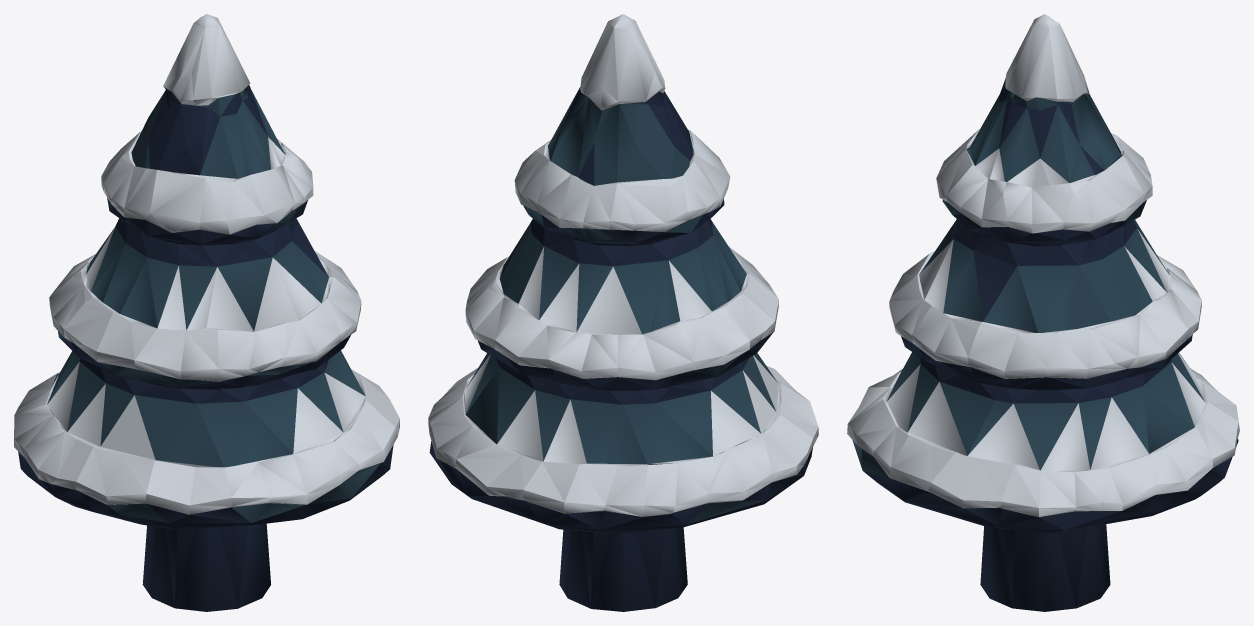
File: pine_snowy.glb
The picture shows the model from 3 angles, left to right: view 1: azimuth 30°, elevation 25°; view 2: azimuth 150°, elevation 25°; view 3: azimuth 270°, elevation 25°; orthographic projection.
Parts seen in each view (by area): view 1: material; view 2: material; view 3: material.
Boxes of the visible parts, left/top/right/bottom form: material: left=14, top=14, right=399, bottom=611; material: left=428, top=14, right=818, bottom=611; material: left=847, top=14, right=1239, bottom=611.
Size of the model in its own units: 3.74 by 6 by 3.72.
